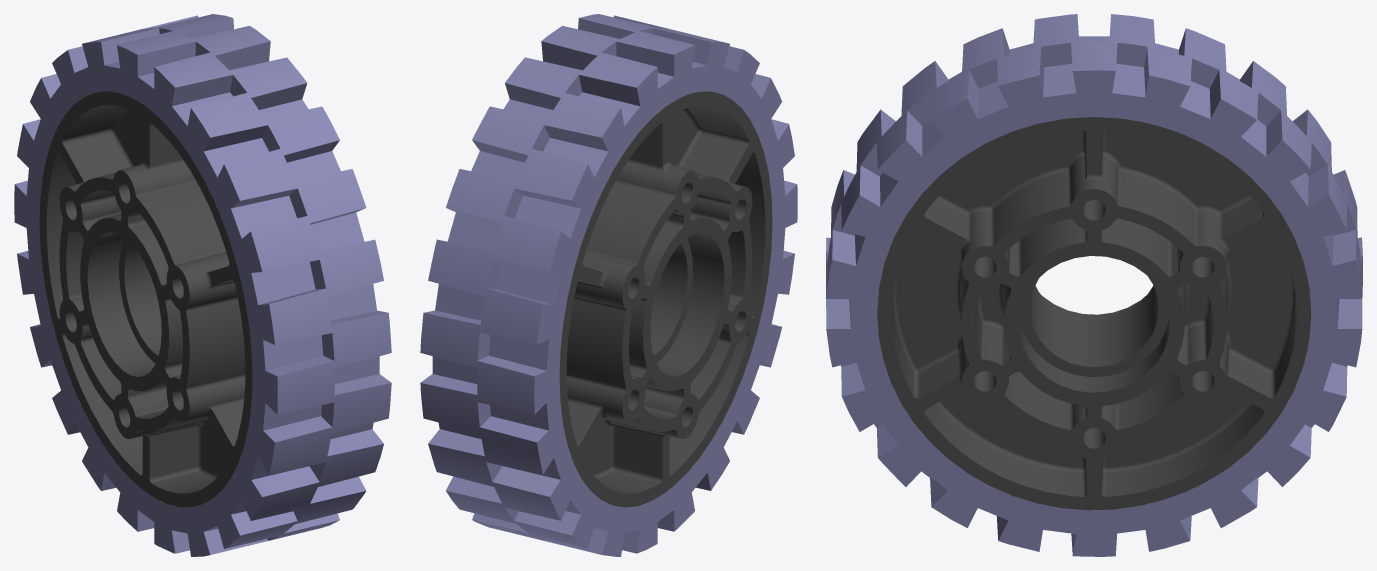
The model's file is wheel.dae.
The picture shows the model from 3 angles, left to right: view 1: azimuth 30°, elevation 25°; view 2: azimuth 150°, elevation 25°; view 3: azimuth 270°, elevation 25°; orthographic projection.
Parts seen in each view (by area): view 1: Body_1 (×2); view 2: Body_1 (×2); view 3: Body_2, Body_1 (×2).
Part boxes in pixels (left/top/right/bottom): Body_1 (×2): left=14, top=14, right=391, bottom=556; Body_1 (×2): left=420, top=14, right=797, bottom=556; Body_2: left=877, top=117, right=1311, bottom=510; Body_1 (×2): left=826, top=14, right=1362, bottom=556.
Bounding box in the file's own units: 0.0349 × 0.1015 × 0.1016.
